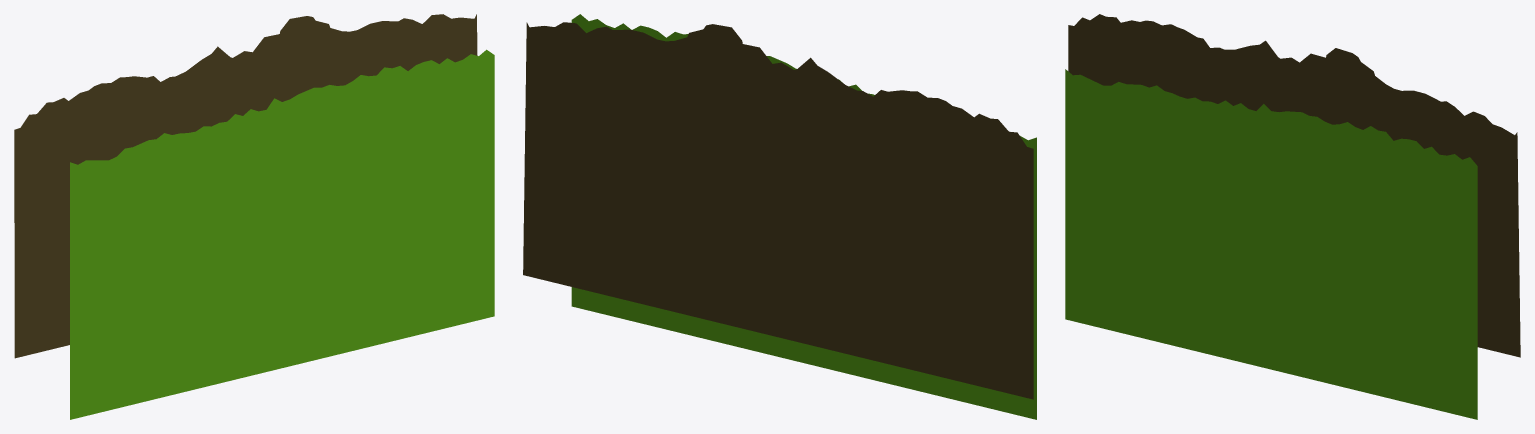
The model's file is background01.FBX.
The picture shows the model from 3 angles, left to right: view 1: azimuth 30°, elevation 25°; view 2: azimuth 150°, elevation 25°; view 3: azimuth 330°, elevation 25°; orthographic projection. The views are drawn at different scales.
Parts seen in each view (by area): view 1: Plane008; view 2: Plane008; view 3: Plane008.
Boxes of the visible parts, x1=… form: Plane008: x1=14, y1=14, x2=494, y2=419; Plane008: x1=523, y1=14, x2=1036, y2=419; Plane008: x1=1065, y1=14, x2=1520, y2=419.
Size of the model in its own units: 1017 by 666 by 111.
